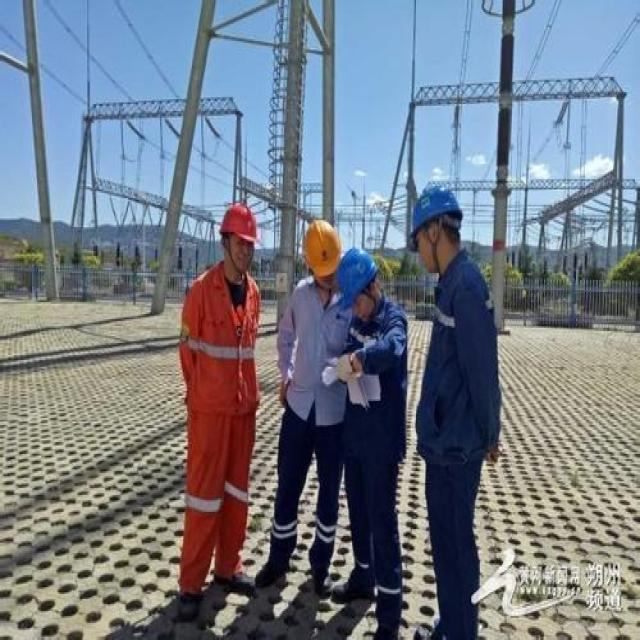NO_Safety_vest: (416, 258, 504, 474), (276, 275, 348, 425), (346, 304, 410, 458)
Safety_vest_OK: (177, 270, 259, 414)
helmet_OK: (406, 178, 466, 274), (220, 197, 262, 277), (338, 246, 380, 326), (302, 214, 338, 291)
